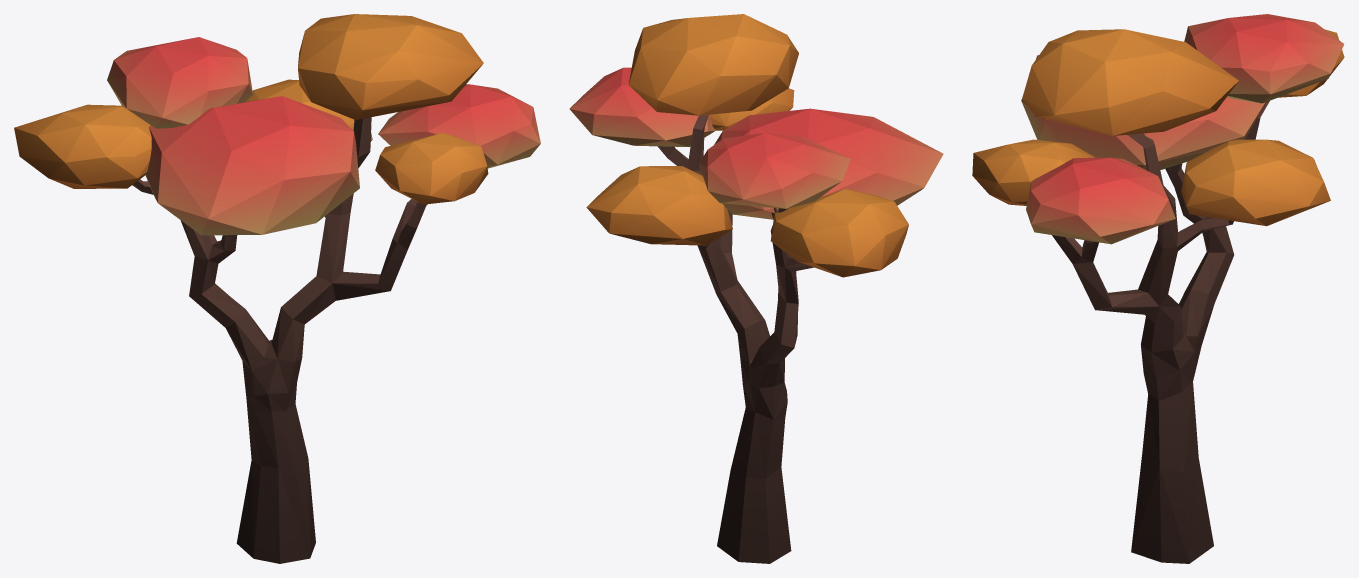
Rendered from ZLP_Plant_F_4.FBX.
3 views of the same model, side by side, from view 1: azimuth 30°, elevation 25°; view 2: azimuth 150°, elevation 25°; view 3: azimuth 270°, elevation 25° (orthographic). The views are drawn at different scales.
Visible parts, largest first — view 1: ZLP_Plant_F_4; view 2: ZLP_Plant_F_4; view 3: ZLP_Plant_F_4.
Boxes of the visible parts, x1,y1,x2,y2 form: ZLP_Plant_F_4: (14, 14, 540, 563); ZLP_Plant_F_4: (569, 14, 943, 563); ZLP_Plant_F_4: (972, 14, 1344, 563).
Bounding box in the file's own units: 306 × 366 × 229.
